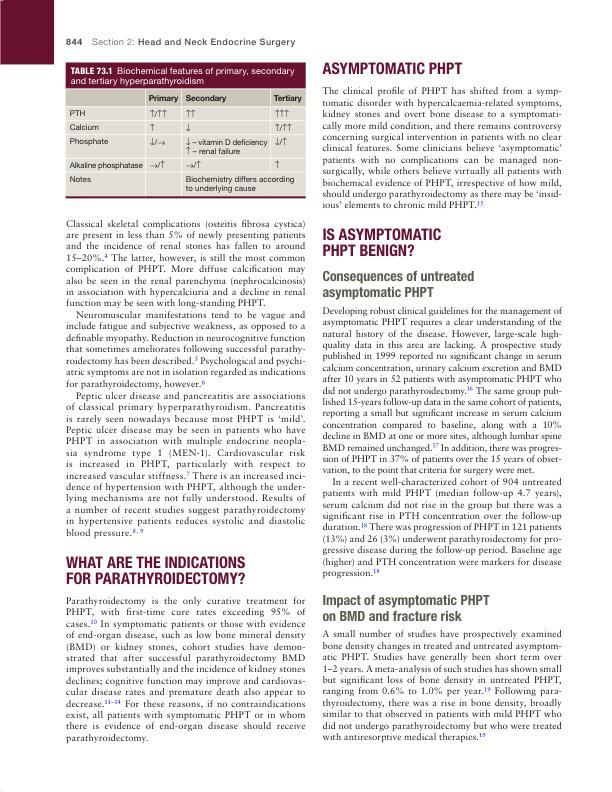caption: (70, 66, 295, 87)
header: (91, 36, 297, 48)
section-heading: (65, 555, 247, 586), (320, 225, 443, 258), (321, 60, 464, 76)
sub-section-heading: (321, 592, 492, 623), (321, 269, 476, 301)
table: (66, 88, 306, 198)
text: (64, 218, 307, 540), (321, 305, 563, 579), (64, 595, 307, 744), (321, 86, 563, 210), (321, 628, 563, 744)
